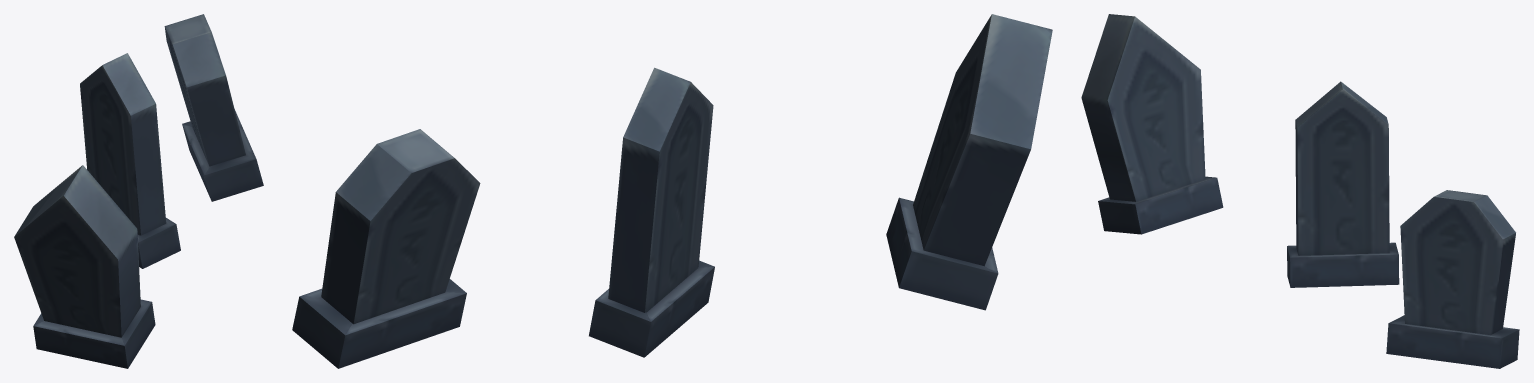
Rendered from Area_04_30.fbx.
3 renders of one model, left to right at view 1: azimuth 30°, elevation 25°; view 2: azimuth 150°, elevation 25°; view 3: azimuth 270°, elevation 25°, orthographic. The views are drawn at different scales.
Parts seen in each view (by area): view 1: Area_04_30; view 2: Area_04_30; view 3: Area_04_30.
Boxes of the visible parts, <box> form: Area_04_30: <box>14,14,263,368</box>; Area_04_30: <box>292,14,1052,368</box>; Area_04_30: <box>1081,14,1519,368</box>.
Bounding box in the file's own units: 1135 × 556 × 1103.
